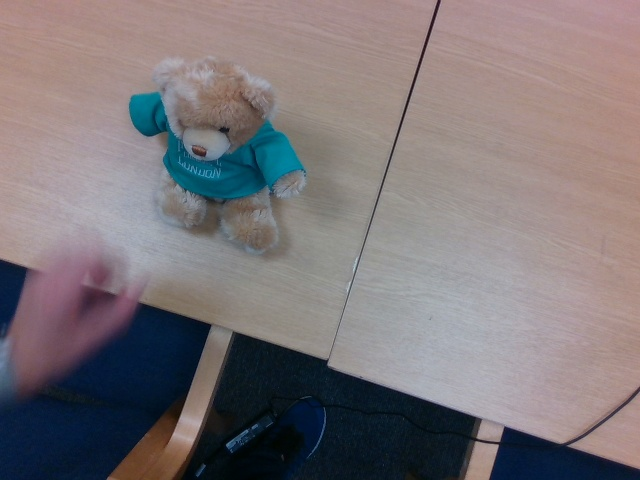teddy: (129, 53, 306, 254)
